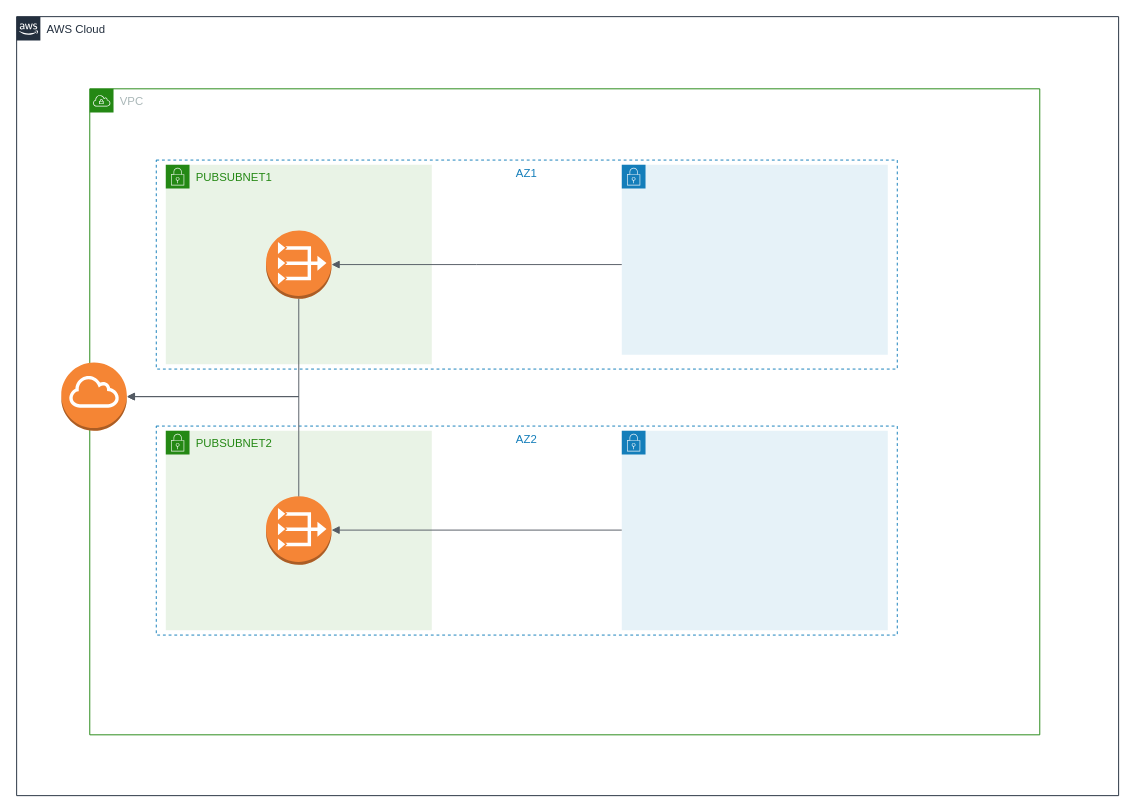
This 1135x812 diagram has some shape labels left out. The centre of each missing label's shape, as x and y in pixels:
"PRIVSUBNET1" belongs at (754,259).
"PRIVSUBNET2" belongs at (754,530).
